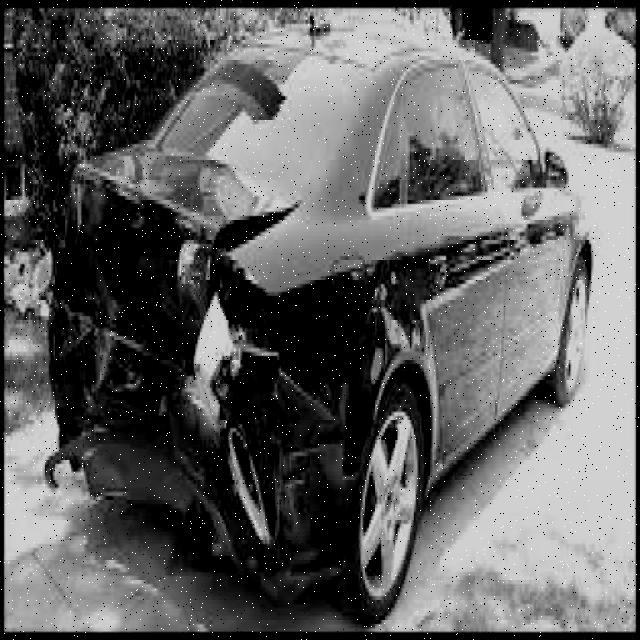car damage: (49, 143, 352, 580)
